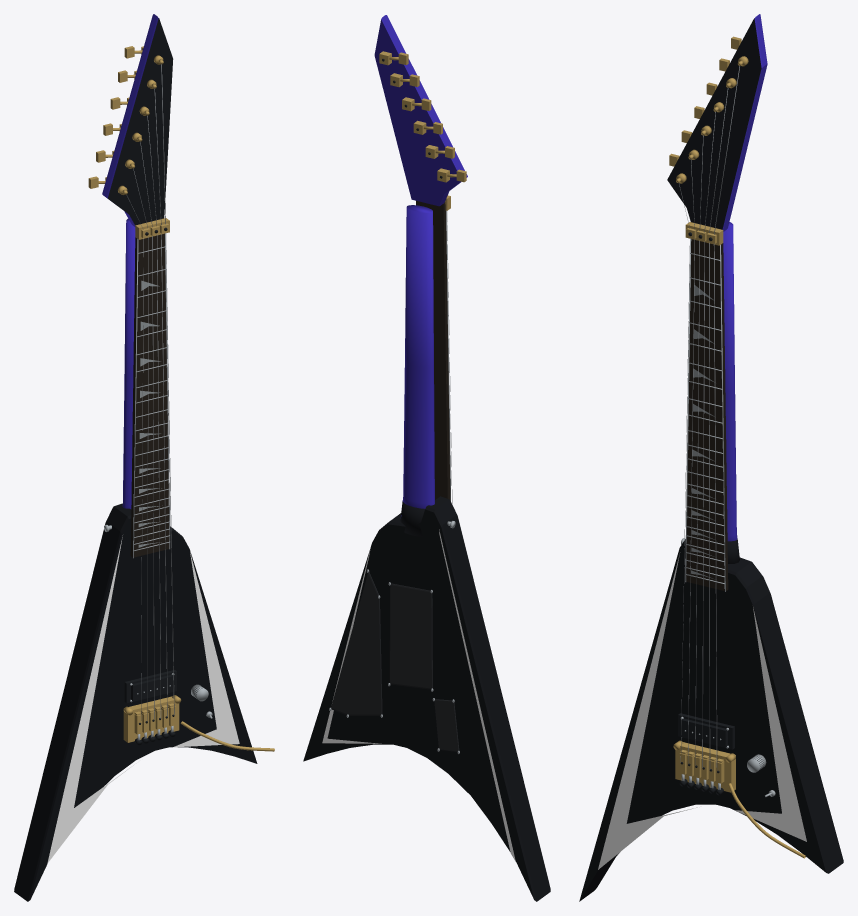
File: v-guitar-black-white-longer.glb
3 views of the same model, side by side, from view 1: azimuth 30°, elevation 25°; view 2: azimuth 150°, elevation 25°; view 3: azimuth 330°, elevation 25° (orthographic). The views are drawn at different scales.
Parts seen in each view (by area): view 1: guitar_body, guitar_fretboard, guitar_headstock, guitar_hardware, guitar_lime_graphics, guitar_strings, guitar_neck; view 2: guitar_body, guitar_rear_details, guitar_neck, guitar_headstock, guitar_fretboard, guitar_hardware, guitar_lime_graphics; view 3: guitar_body, guitar_fretboard, guitar_headstock, guitar_lime_graphics, guitar_hardware, guitar_strings, guitar_neck.
Boxes of the visible parts, <box> form: guitar_body: <box>14,503,257,901</box>; guitar_fretboard: <box>130,233,170,558</box>; guitar_headstock: <box>102,14,173,226</box>; guitar_hardware: <box>88,46,274,751</box>; guitar_lime_graphics: <box>47,535,239,863</box>; guitar_strings: <box>126,64,174,721</box>; guitar_neck: <box>122,219,135,509</box>; guitar_body: <box>303,496,550,901</box>; guitar_rear_details: <box>329,569,459,753</box>; guitar_neck: <box>400,205,434,536</box>; guitar_headstock: <box>374,15,467,206</box>; guitar_fretboard: <box>416,201,450,501</box>; guitar_hardware: <box>379,51,466,528</box>; guitar_lime_graphics: <box>322,529,515,861</box>; guitar_body: <box>579,539,843,901</box>; guitar_fretboard: <box>685,239,728,591</box>; guitar_headstock: <box>667,14,767,231</box>; guitar_lime_graphics: <box>598,552,806,869</box>; guitar_hardware: <box>669,36,805,858</box>; guitar_strings: <box>679,66,739,771</box>; guitar_neck: <box>723,222,739,563</box>.
Bounding box in the file's own units: 0.3652 × 1.27 × 0.1211.
